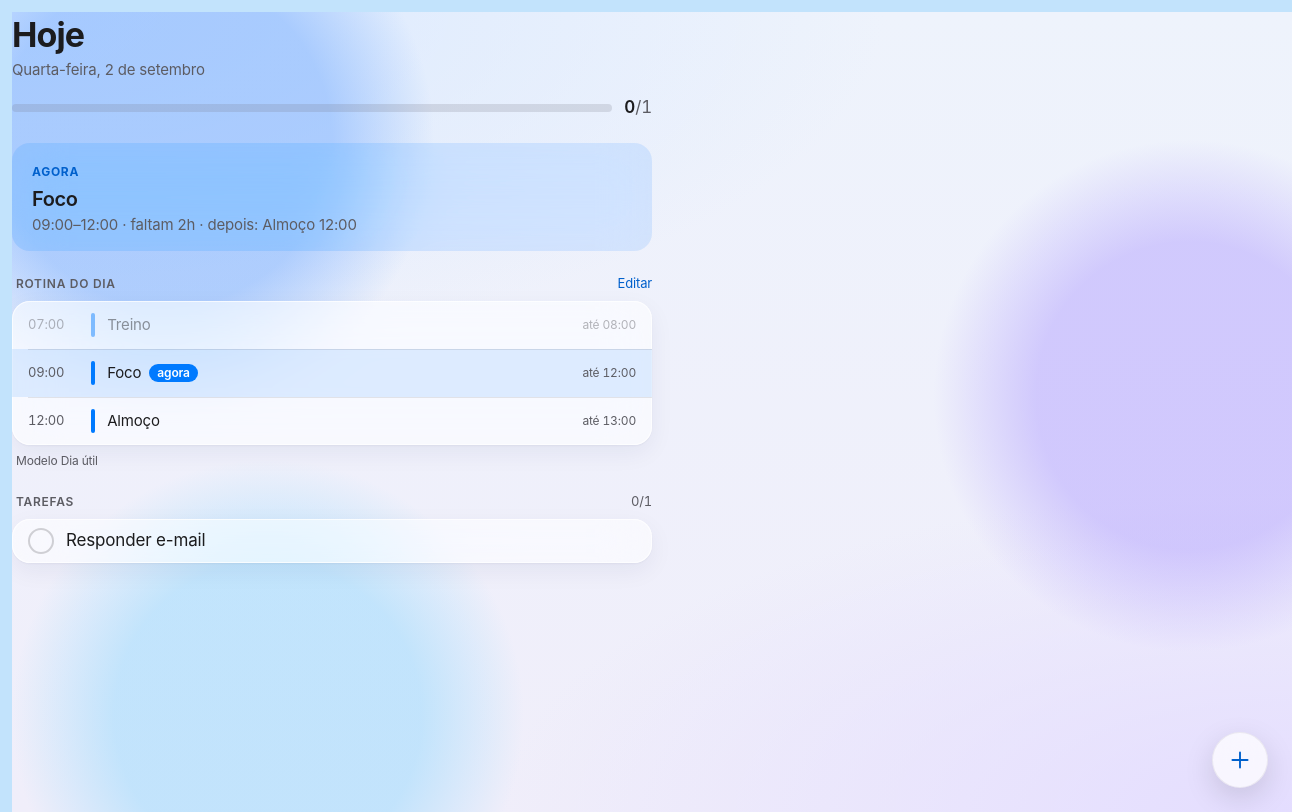
Hoje › tarefas › concluir a tarefa muda a tela antes da resposta
Click the button with class "item__marca". click: (41, 540)
box: [28,528,54,554]
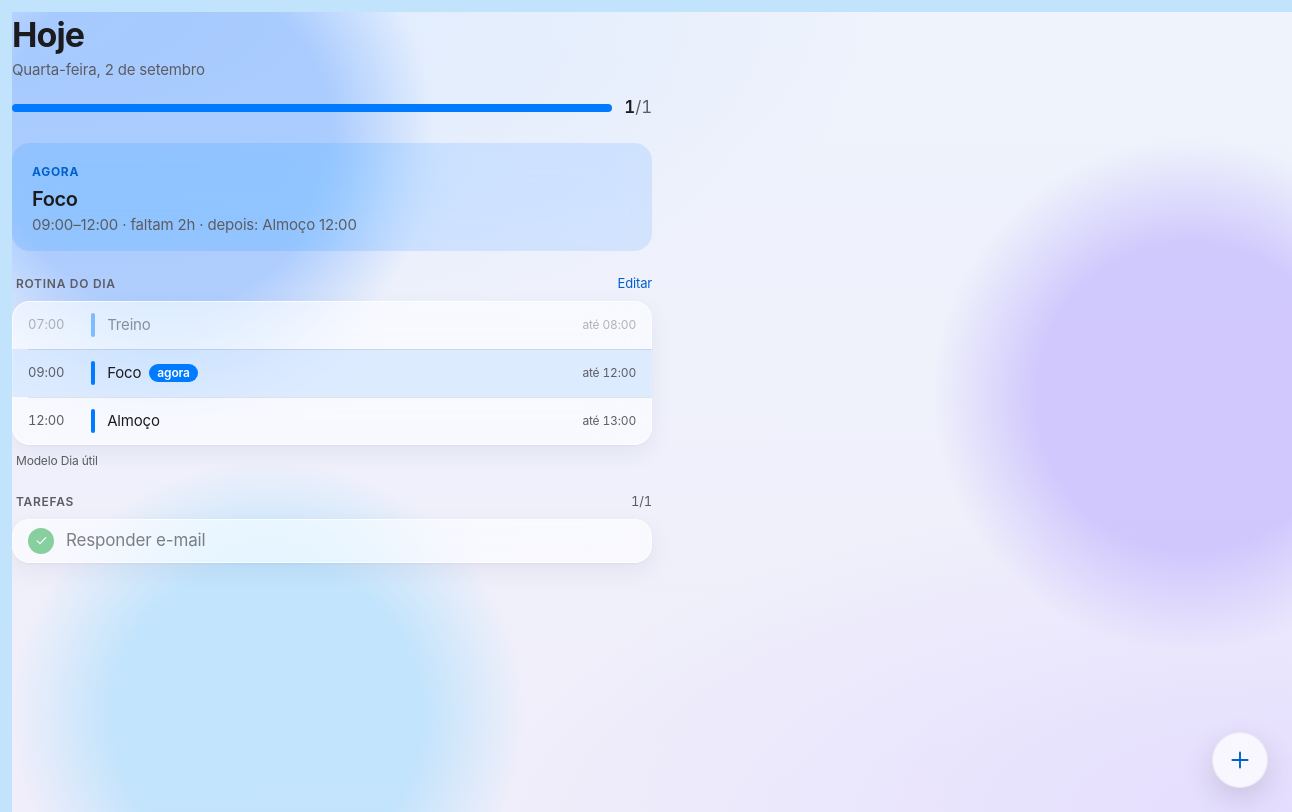
Check: the text "1/1" is shown, box [624,96,652,119]
